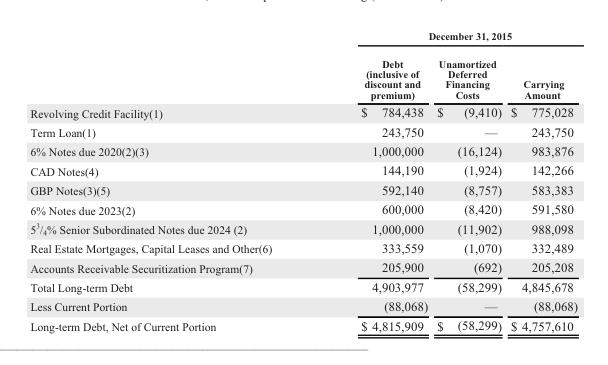table: (29, 28, 577, 333)
table column: (29, 28, 315, 333), (315, 28, 431, 333), (431, 28, 505, 333), (505, 28, 577, 333)
table column header: (29, 28, 577, 102)
table row: (29, 49, 577, 102), (29, 28, 577, 49), (29, 140, 577, 160), (29, 179, 577, 199), (29, 237, 577, 257), (29, 295, 577, 315), (29, 102, 577, 121), (29, 121, 577, 140), (29, 160, 577, 179), (29, 199, 577, 218), (29, 218, 577, 237), (29, 257, 577, 276), (29, 276, 577, 295), (29, 315, 577, 333)
table spanning cell: (315, 28, 577, 49)
